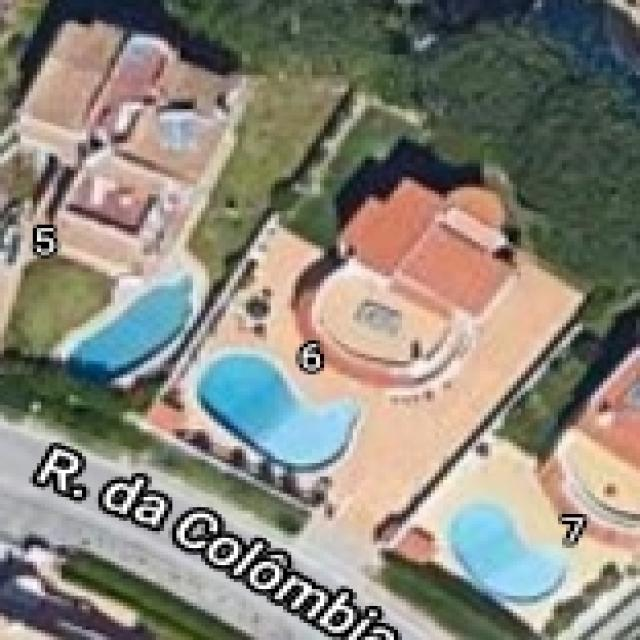pool: (148, 297, 398, 528), (32, 230, 256, 427), (418, 451, 604, 640)
